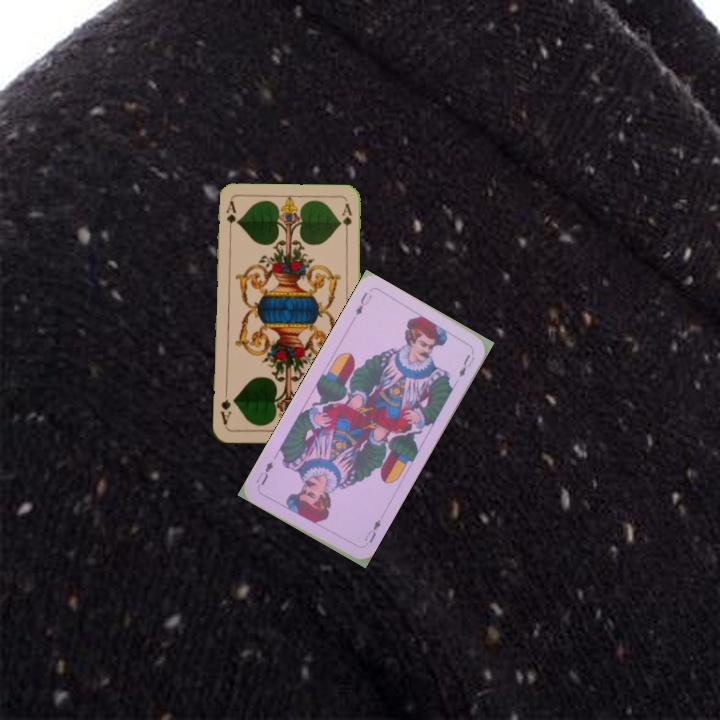EU: (351, 288, 375, 318), (360, 515, 383, 546)
GA: (222, 198, 238, 238)
